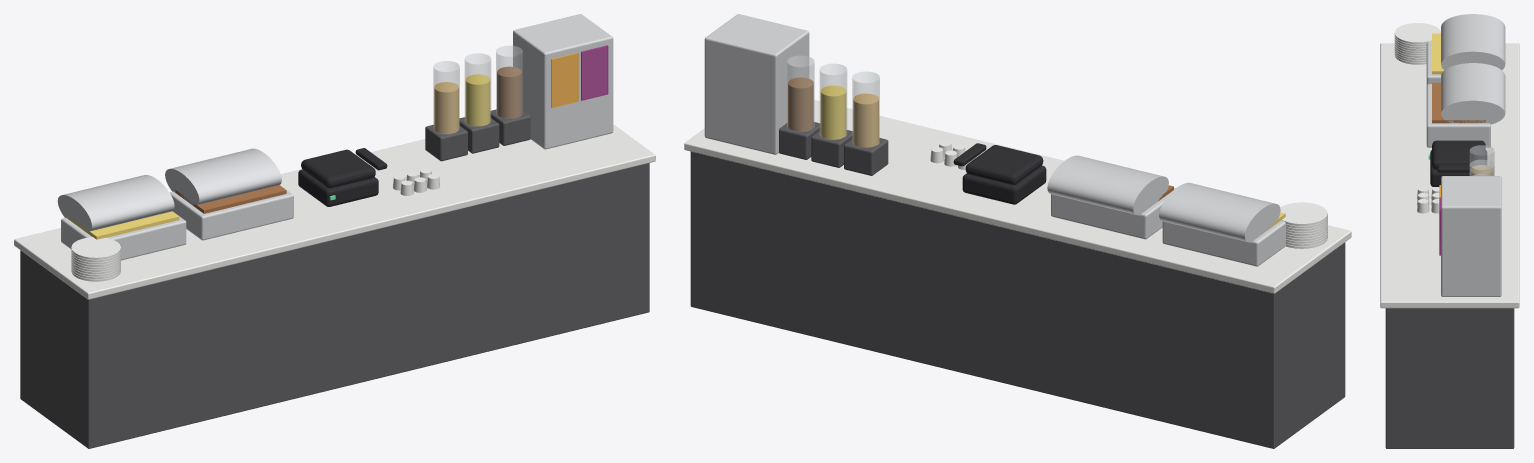
The model's file is hotel-breakfast-bar.glb.
3 views of the same model, side by side, from view 1: azimuth 30°, elevation 25°; view 2: azimuth 150°, elevation 25°; view 3: azimuth 270°, elevation 25° (orthographic). The views are drawn at different scales.
Parts seen in each view (by area): view 1: base, top, juice, lid1, lid0, chafer1, chafer0, disp_tube1, disp_tube0, disp_tube2, waffle_lid, waffle_base (+11 smaller); view 2: base, top, juice, lid1, lid0, chafer0, chafer1, disp_tube1, disp_tube0, disp_tube2, waffle_lid, waffle_base (+7 smaller); view 3: top, base, juice, lid1, lid0, chafer1, waffle_lid, plate9, disp_tube0, food1, disp_tube1, food0 (+5 smaller).
Part boxes in pixels (x1,y1,x2,y2): base: (20, 163, 649, 448); top: (14, 124, 655, 299); juice: (513, 14, 613, 149); lid1: (165, 148, 281, 205); lid0: (57, 175, 174, 231); chafer1: (169, 185, 293, 240); chafer0: (61, 211, 186, 260); disp_tube1: (464, 53, 491, 126); disp_tube0: (433, 61, 459, 134); disp_tube2: (496, 45, 522, 118); waffle_lid: (301, 149, 375, 188); waffle_base: (298, 169, 378, 206); base: (690, 151, 1345, 448); top: (684, 100, 1351, 293); juice: (704, 14, 809, 154); lid1: (1047, 155, 1168, 215); lid0: (1159, 182, 1280, 242); chafer0: (1162, 220, 1285, 266); chafer1: (1051, 188, 1175, 239); disp_tube1: (819, 63, 847, 139); disp_tube0: (852, 71, 879, 147); disp_tube2: (787, 55, 814, 131); waffle_lid: (965, 145, 1043, 184); waffle_base: (962, 165, 1046, 204); top: (1380, 43, 1519, 308); base: (1385, 308, 1514, 448); juice: (1441, 176, 1501, 296); lid1: (1441, 63, 1505, 124); lid0: (1441, 14, 1505, 70); chafer1: (1426, 84, 1490, 147); waffle_lid: (1432, 140, 1485, 169); plate9: (1394, 23, 1440, 44); disp_tube0: (1469, 145, 1494, 175); food1: (1432, 82, 1485, 123); disp_tube1: (1469, 159, 1494, 175); food0: (1432, 33, 1443, 74).
Bounding box in the file's own units: 3.44 × 1.48 × 0.78.
